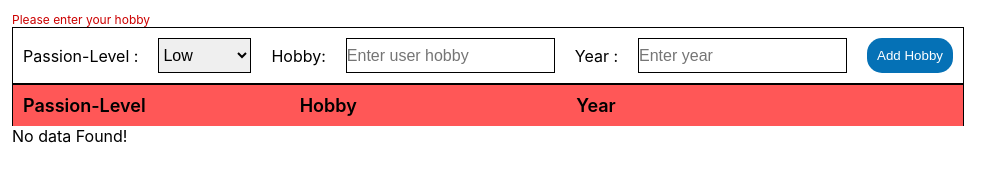
Test: Testing Add Hobby Component › should display error on empty Year input field
The image size is (981, 172).
Step 1. Type "Sam" into the field with id "hobby" → x=450, y=56, box [346, 38, 555, 73]
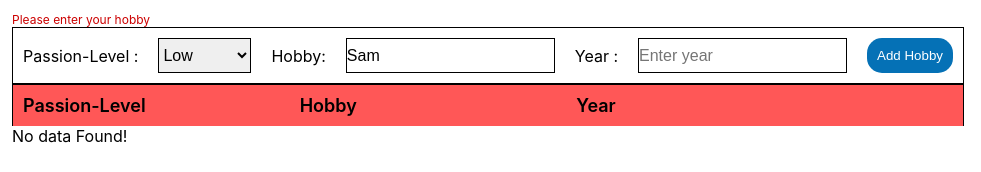
Step 2. Click the button with class "addHobbybutton" → x=910, y=56, box [867, 38, 953, 73]
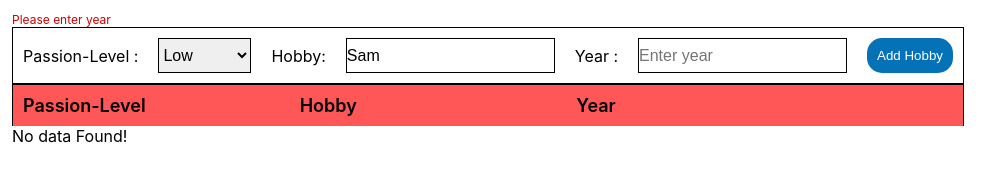
Expected: the text with class "errorDiv" reads "Please enter year", [12, 12, 111, 27]
